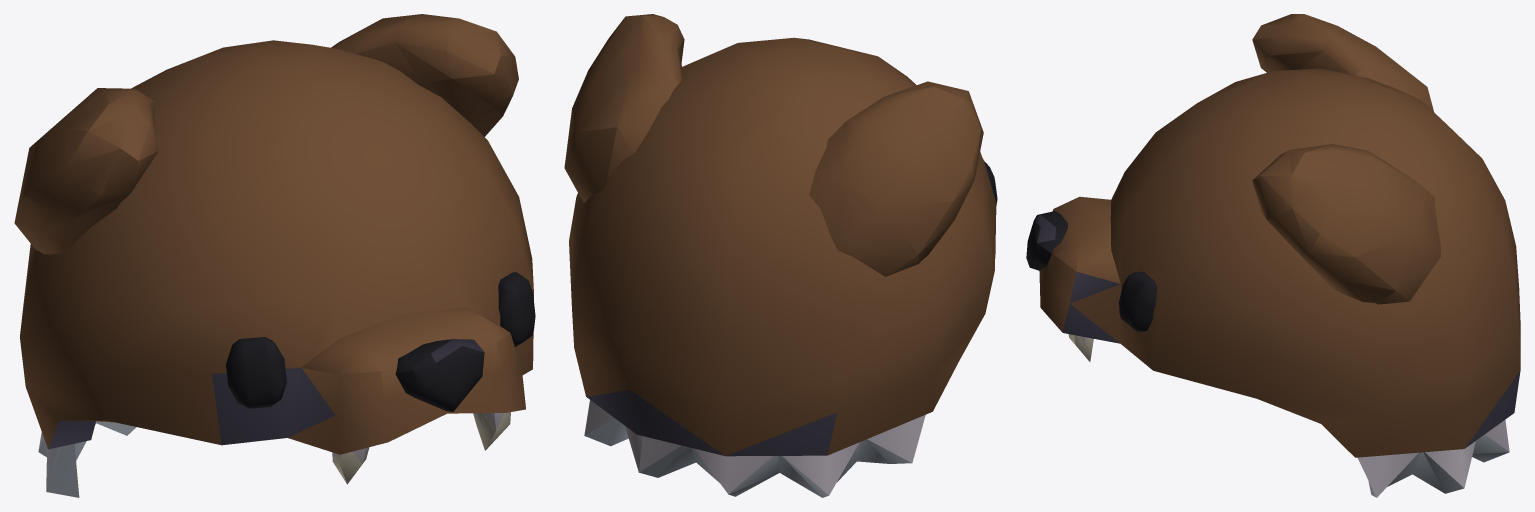
3 renders of one model, left to right at view 1: azimuth 30°, elevation 25°; view 2: azimuth 150°, elevation 25°; view 3: azimuth 270°, elevation 25°, orthographic. The views are drawn at different scales.
Visible parts, largest first — view 1: model; view 2: model; view 3: model.
Boxes of the visible parts, box(x1,y1,x2,y2) form: model: box(14, 14, 535, 497); model: box(564, 14, 997, 497); model: box(1026, 14, 1520, 497).
Bounding box in the file's own units: 0.8318 × 0.7631 × 0.9479.
